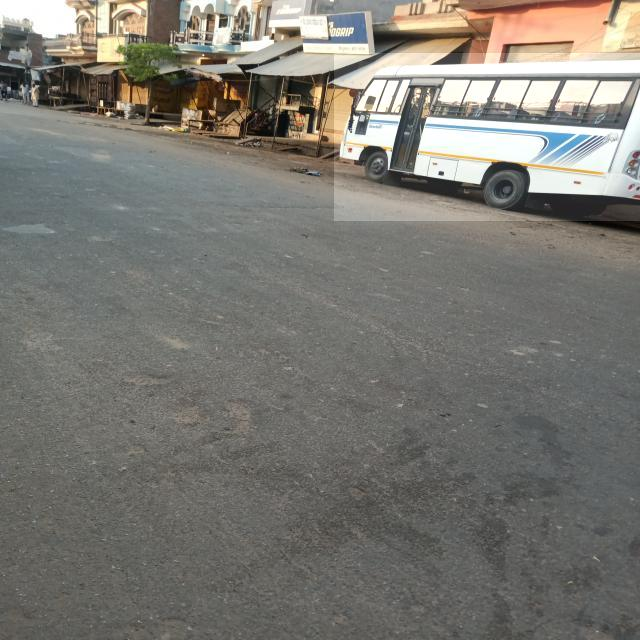Bus: (334, 53, 640, 221)
